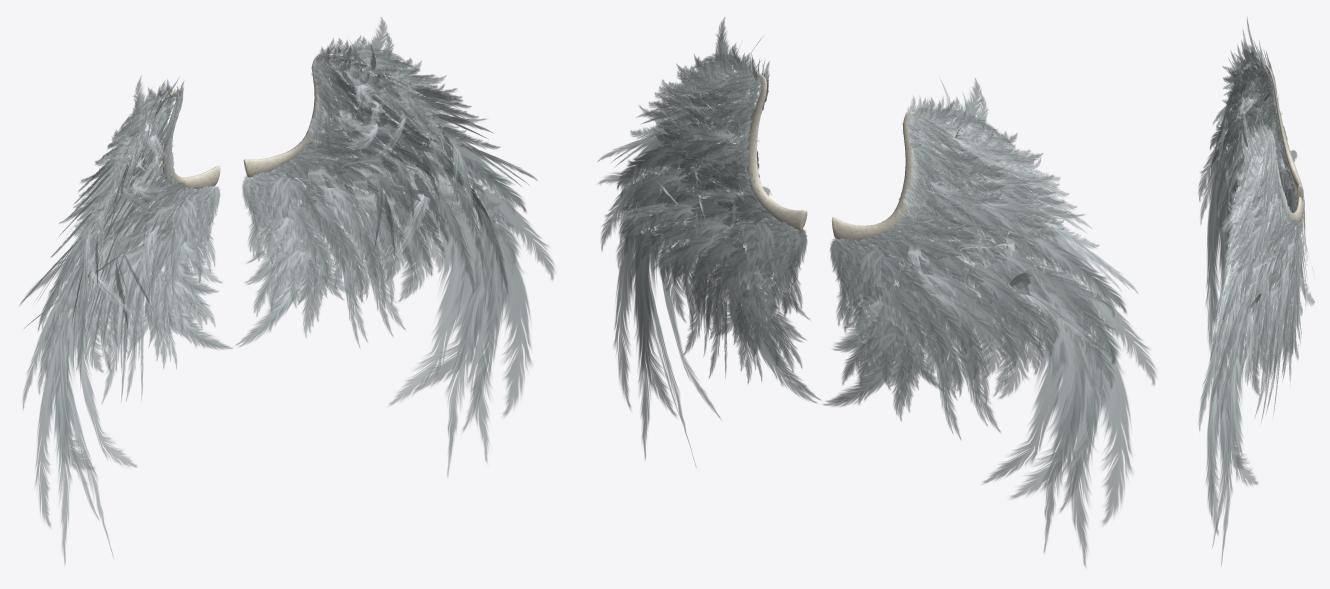
File: FRAGMENT_HORIZON.glb
The picture shows the model from 3 angles, left to right: view 1: azimuth 30°, elevation 25°; view 2: azimuth 150°, elevation 25°; view 3: azimuth 270°, elevation 25°; orthographic projection. The views are drawn at different scales.
Visible parts, largest first — view 1: polySurface2193; view 2: polySurface2193; view 3: polySurface2193.
Boxes of the visible parts, left/top/right/bottom form: polySurface2193: left=19, top=17, right=555, bottom=565; polySurface2193: left=597, top=17, right=1156, bottom=567; polySurface2193: left=1198, top=17, right=1314, bottom=566.
Bounding box in the file's own units: 2.63 × 2.16 × 0.5714.
2 materials, 2 textured.
